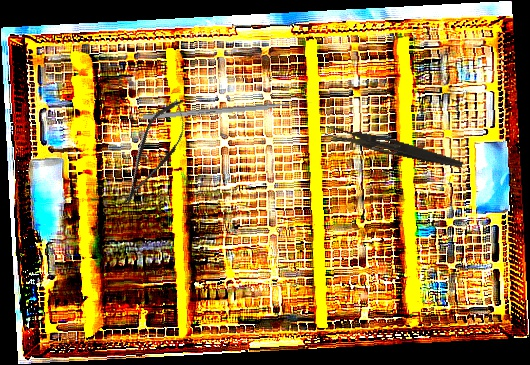Dressing Forceps: (323, 125, 465, 170)
Micro Scissor: (108, 90, 199, 216)
Pusher: (143, 99, 312, 121)
